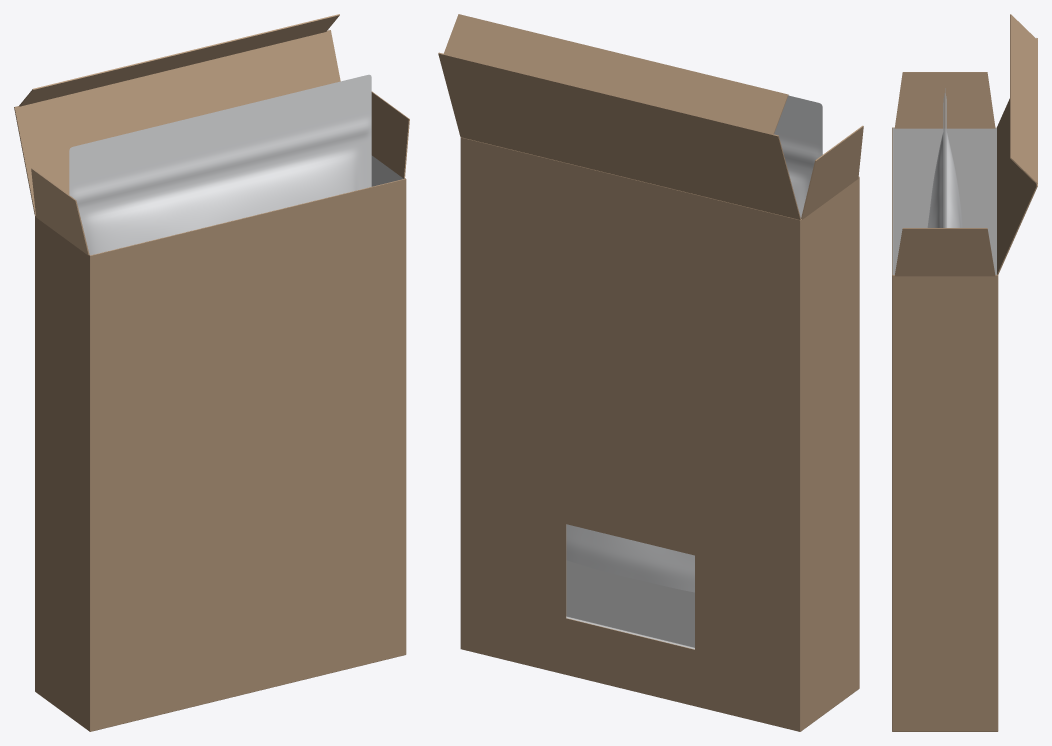
Rendered from minis-pouch-box-open.glb.
3 renders of one model, left to right at view 1: azimuth 30°, elevation 25°; view 2: azimuth 150°, elevation 25°; view 3: azimuth 270°, elevation 25°, orthographic. The views are drawn at different scales.
Parts seen in each view (by area): view 1: dbox_body, doyin, dbox_lid, dbox_tuck, dbox_dustp-1, dbox_dustp1; view 2: dbox_body, dbox_lid, dbox_tuck, dbox_film, doyin, dbox_dustp-1; view 3: dbox_body, dbox_dustp-1, dbox_dustp1, dbox_tuck, dbox_lid, doyin.
Boxes of the visible parts, left/top/right/bottom form: dbox_body: left=35, top=155, right=406, bottom=731; doyin: left=69, top=74, right=371, bottom=255; dbox_lid: left=14, top=30, right=340, bottom=215; dbox_tuck: left=19, top=14, right=339, bottom=106; dbox_dustp-1: left=31, top=168, right=89, bottom=255; dbox_dustp1: left=371, top=91, right=409, bottom=178; dbox_body: left=460, top=137, right=859, bottom=731; dbox_lid: left=438, top=52, right=800, bottom=219; dbox_tuck: left=443, top=14, right=788, bottom=134; dbox_film: left=567, top=525, right=694, bottom=648; doyin: left=566, top=95, right=822, bottom=592; dbox_dustp-1: left=801, top=125, right=863, bottom=219; dbox_body: left=892, top=127, right=998, bottom=731; dbox_dustp-1: left=894, top=72, right=995, bottom=128; dbox_dustp1: left=895, top=228, right=995, bottom=276; dbox_tuck: left=1010, top=14, right=1037, bottom=183; dbox_lid: left=997, top=38, right=1037, bottom=274; doyin: left=927, top=88, right=962, bottom=227.
Bounding box in the file's own units: 0.1396 × 0.2381 × 0.055.
